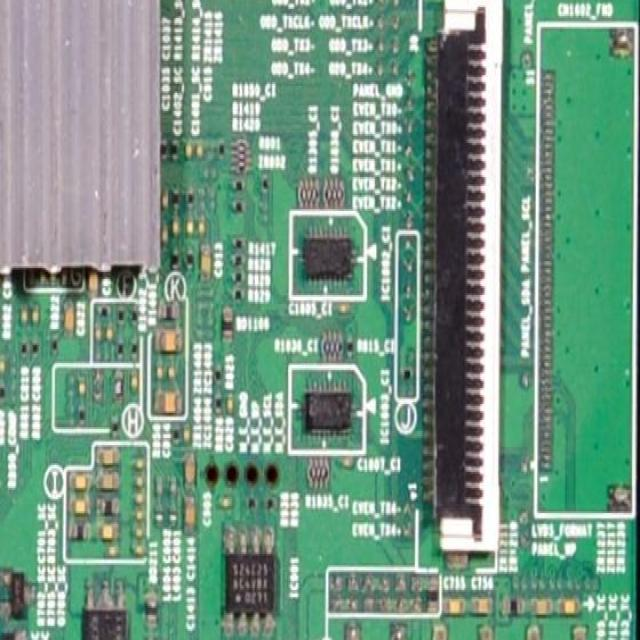IC: (214, 506, 300, 640), (288, 361, 383, 458), (292, 204, 366, 302), (76, 583, 137, 640), (0, 542, 31, 626), (420, 625, 507, 640), (520, 624, 595, 640), (0, 620, 30, 640)
capacitor: (65, 439, 148, 504), (151, 322, 187, 420), (442, 588, 497, 629), (156, 211, 220, 243), (532, 588, 585, 624), (178, 449, 197, 534), (128, 495, 150, 559), (196, 238, 222, 288), (17, 293, 45, 339), (92, 318, 118, 359), (73, 368, 93, 406), (97, 522, 120, 555), (62, 292, 76, 342), (187, 132, 208, 164), (129, 366, 145, 399), (222, 379, 234, 415), (0, 274, 8, 306), (161, 186, 168, 213), (76, 502, 90, 515), (0, 348, 5, 374), (145, 636, 165, 640)
resistor: (226, 234, 252, 308), (144, 574, 164, 634), (18, 336, 62, 362), (261, 162, 275, 228), (228, 179, 250, 217), (503, 586, 526, 620), (68, 516, 95, 544), (175, 186, 204, 211), (168, 245, 192, 275), (211, 363, 226, 410), (95, 497, 122, 517), (161, 136, 182, 160), (216, 132, 229, 163), (0, 372, 8, 415), (0, 300, 3, 330)
